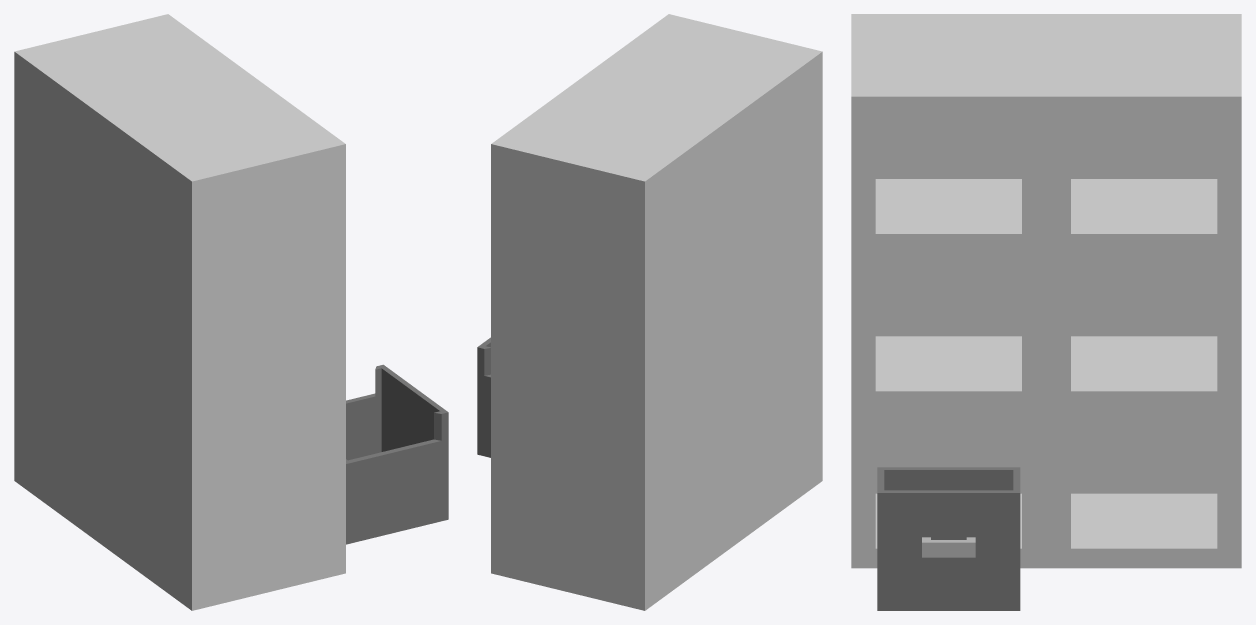
The model's file is cabenet.fbx.
3 views of the same model, side by side, from view 1: azimuth 30°, elevation 25°; view 2: azimuth 150°, elevation 25°; view 3: azimuth 270°, elevation 25° (orthographic). The views are drawn at different scales.
Visible parts, largest first — view 1: Cabinet, draw; view 2: Cabinet, draw; view 3: Cabinet, draw.
Boxes of the visible parts, left/top/right/bottom form: Cabinet: left=14, top=14, right=345, bottom=610; draw: left=346, top=364, right=448, bottom=544; Cabinet: left=491, top=14, right=822, bottom=610; draw: left=477, top=337, right=490, bottom=457; Cabinet: left=851, top=14, right=1241, bottom=568; draw: left=877, top=467, right=1020, bottom=610.
Bounding box in the file's own units: 272 × 400 × 300.
